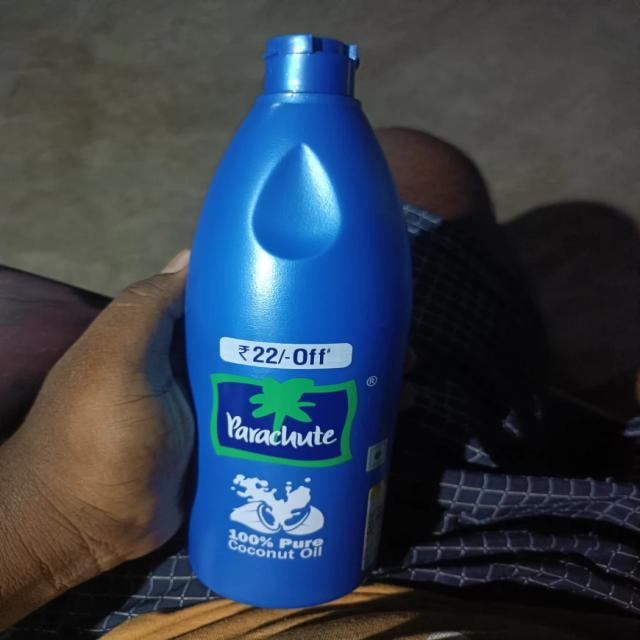parachute_oil: (179, 34, 406, 608)
